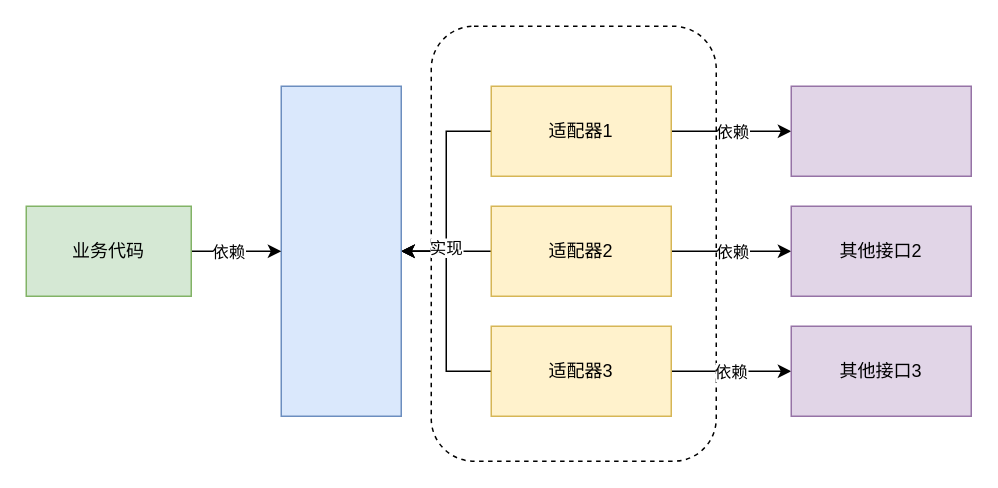
The diagram is 998 pixels wide and 488 high, and some of its shapes have lost their labels. The shapes that lost their labels are listed below. From the top down, each one's box as (x1, y1, x2, y2) in pixels, then its label:
(790, 85, 971, 176): 其他接口1
(280, 85, 401, 416): 业务接口
(430, 25, 716, 461): 接口转换
